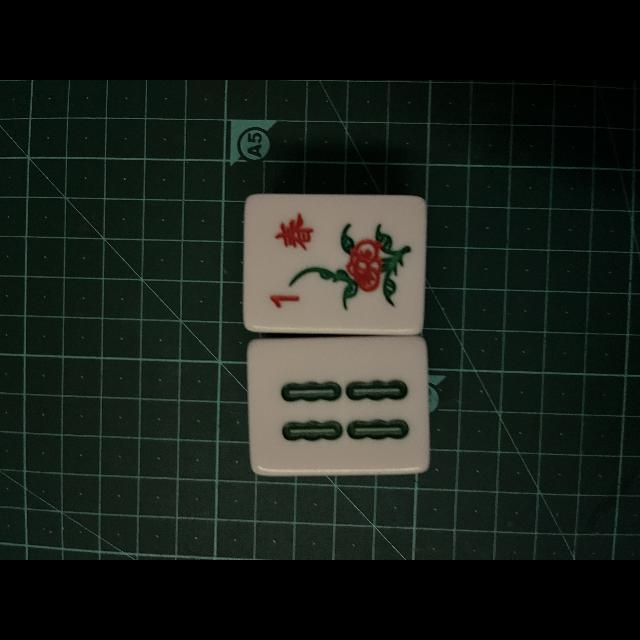b4: (251, 342, 427, 472)
s1: (245, 196, 319, 330)
